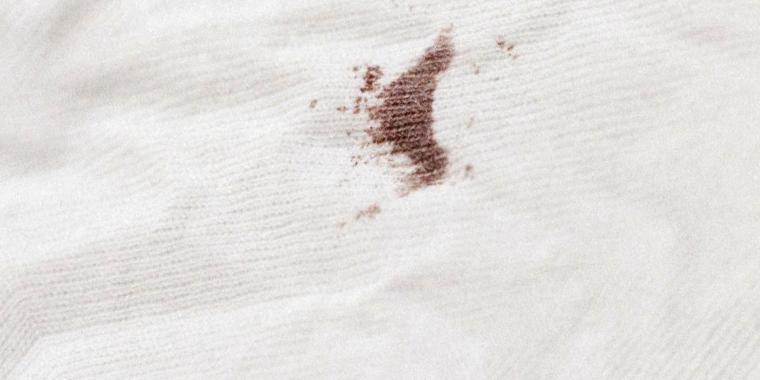stain: (364, 29, 458, 191)
